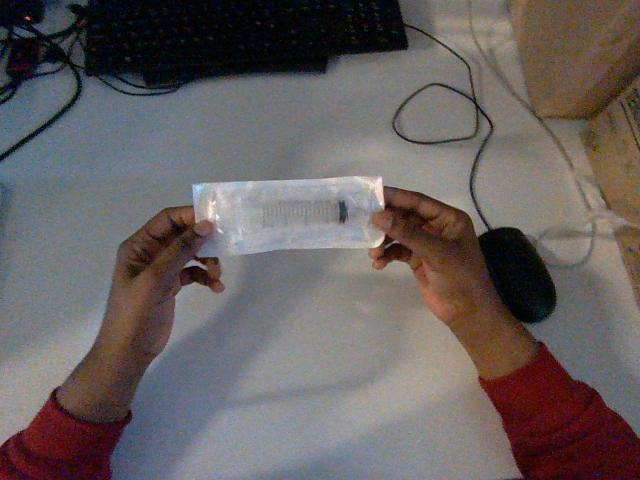syringe: (193, 176, 383, 256)
